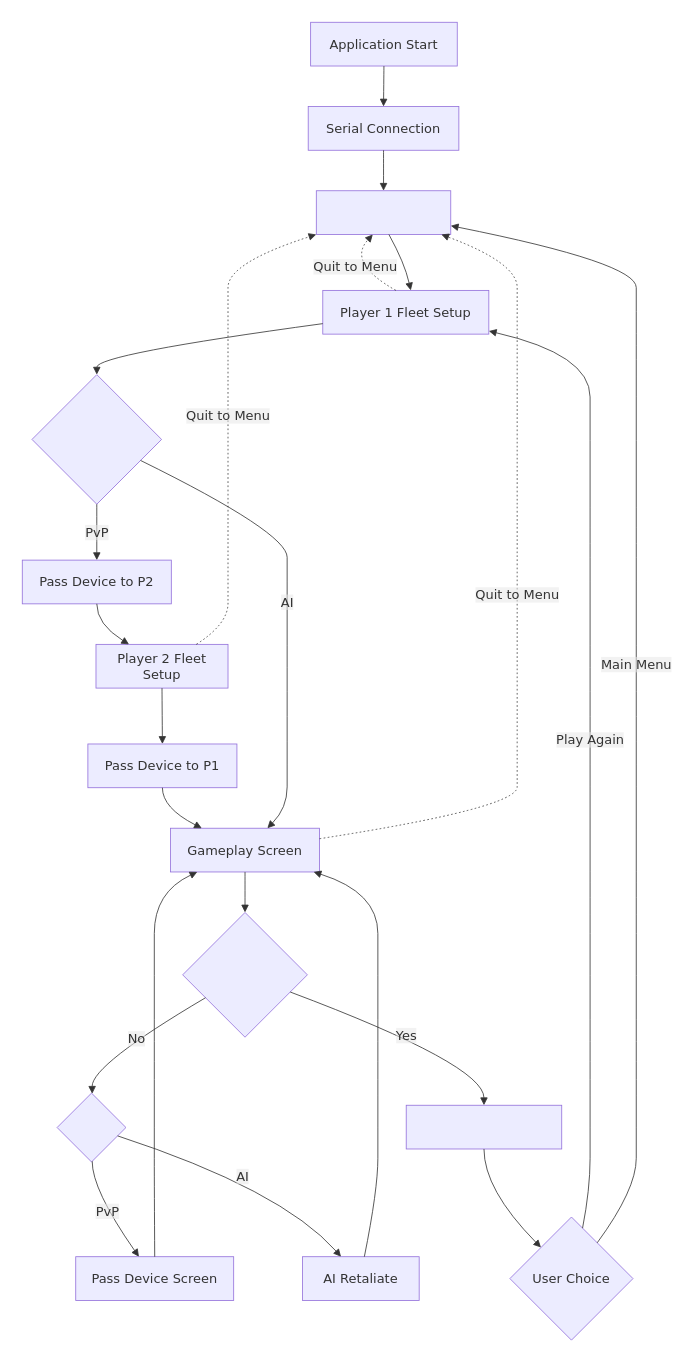
The diagram is 685 pixels wide and 1354 high, and some of its shapes have lost their labels. The shapes that lost their labels are listed below. From the top down, each one's centre as x and y in pixels, then its label:
At [383,212]: "Startup Screen".
At [96,439]: "Game Mode?".
At [244,974]: "Game Over?".
At [91,1127]: "Mode?".
At [483,1126]: "Game Over Screen".
